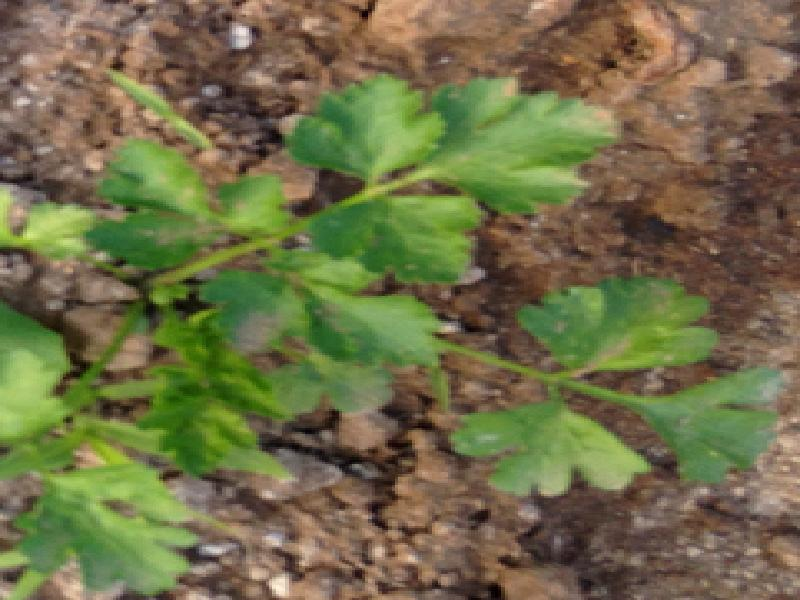radish: (29, 15, 749, 564)
